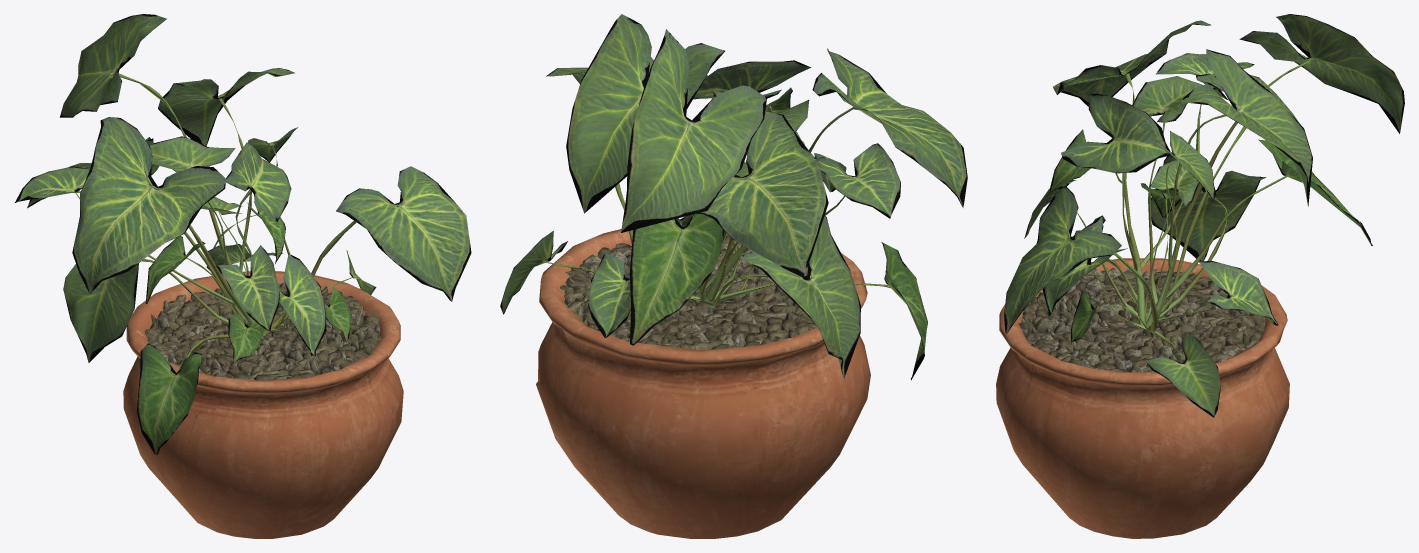
3 renders of one model, left to right at view 1: azimuth 30°, elevation 25°; view 2: azimuth 150°, elevation 25°; view 3: azimuth 270°, elevation 25°, orthographic. The views are drawn at different scales.
Parts seen in each view (by area): view 1: potted_plant_02_leaves, potted_plant_02_pot, potted_plant_02_dirt; view 2: potted_plant_02_leaves, potted_plant_02_pot, potted_plant_02_dirt; view 3: potted_plant_02_leaves, potted_plant_02_pot, potted_plant_02_dirt.
Part boxes in pixels (left/top/right/bottom): potted_plant_02_leaves: left=15, top=14, right=471, bottom=454; potted_plant_02_pot: left=123, top=271, right=403, bottom=538; potted_plant_02_dirt: left=145, top=283, right=382, bottom=380; potted_plant_02_leaves: left=500, top=14, right=967, bottom=380; potted_plant_02_pot: left=536, top=229, right=870, bottom=538; potted_plant_02_dirt: left=560, top=235, right=816, bottom=350; potted_plant_02_leaves: left=1004, top=14, right=1404, bottom=417; potted_plant_02_pot: left=996, top=258, right=1289, bottom=538; potted_plant_02_dirt: left=1018, top=267, right=1265, bottom=372.
Bounding box in the file's own units: 0.6989 × 0.8378 × 0.6561.
2 materials, 2 textured.
